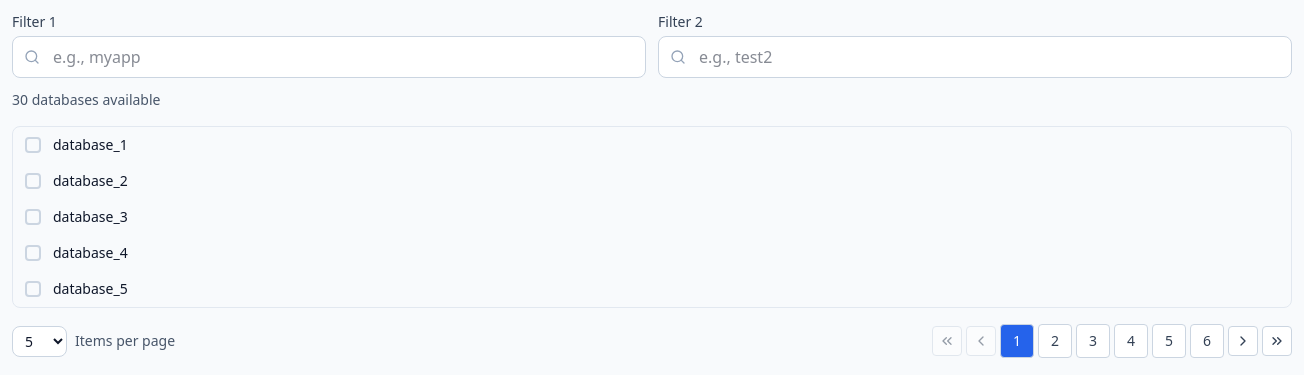
it: DatabaseSelector - Pagination › should navigate to next page
Expected: the text "database_1" is shown, x1=53 y1=135 x2=128 y2=155
Click the button named "Next page": (1243, 341) x1=1228 y1=326 x2=1258 y2=356
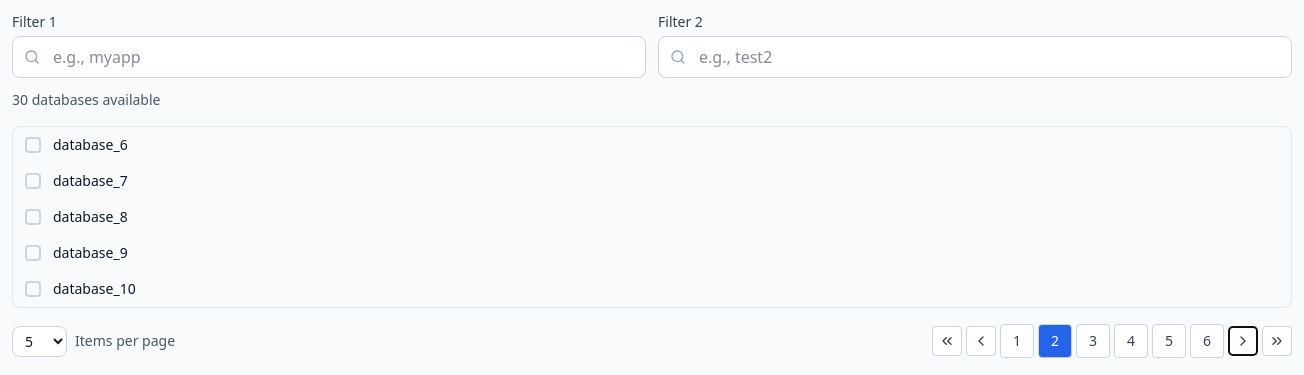
Expected: the text "database_6" is shown, x1=53 y1=135 x2=128 y2=155
Expected: the text "database_10" is shown, x1=53 y1=279 x2=136 y2=299
